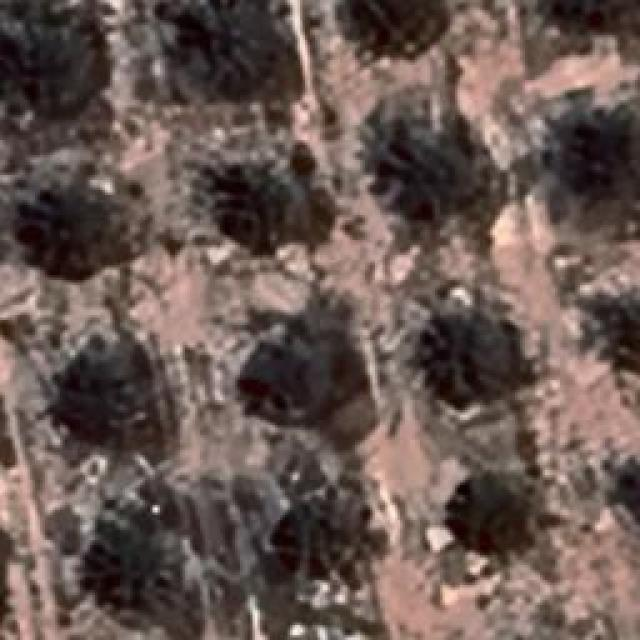PalmTree: (123, 31, 391, 85), (17, 186, 125, 289), (0, 0, 80, 115), (55, 350, 153, 442), (372, 134, 480, 212), (82, 524, 180, 608), (270, 495, 358, 580), (558, 112, 632, 202), (424, 307, 498, 385), (220, 162, 288, 246), (255, 341, 323, 409), (458, 480, 520, 545), (598, 288, 640, 374), (546, 0, 638, 31), (610, 454, 640, 525), (547, 0, 639, 21), (103, 42, 204, 61)
